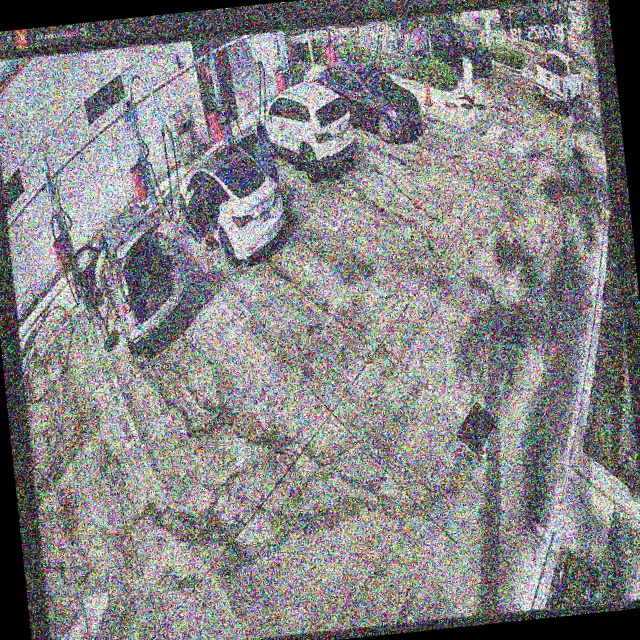Car: (67, 198, 190, 362), (174, 139, 290, 272), (251, 77, 358, 187), (311, 52, 425, 149)
